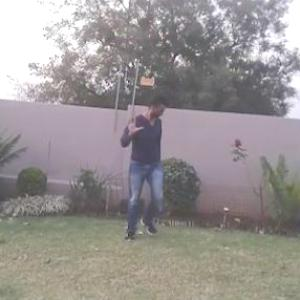follow_hand: (122, 110, 144, 136)
